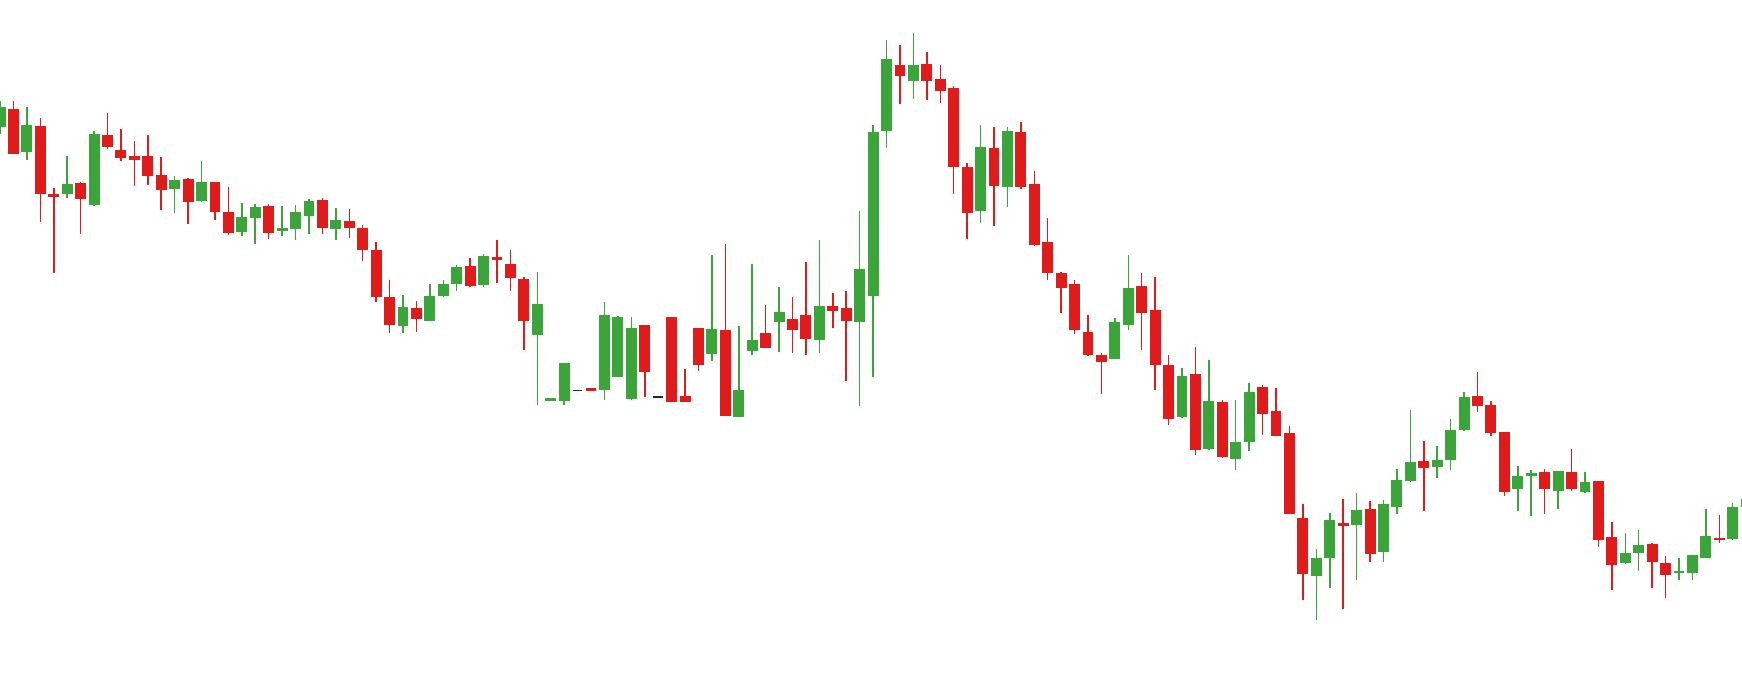sell: (1404, 370, 1498, 469)
